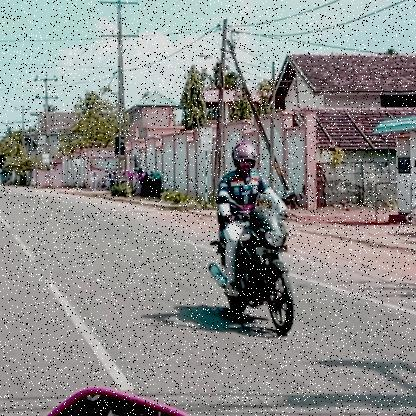motorcycle: (206, 206, 306, 338)
